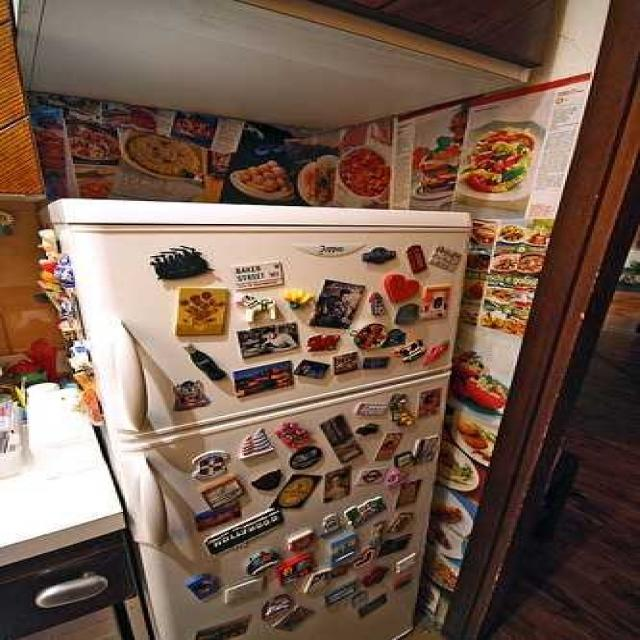refrigerator: (52, 198, 426, 634)
